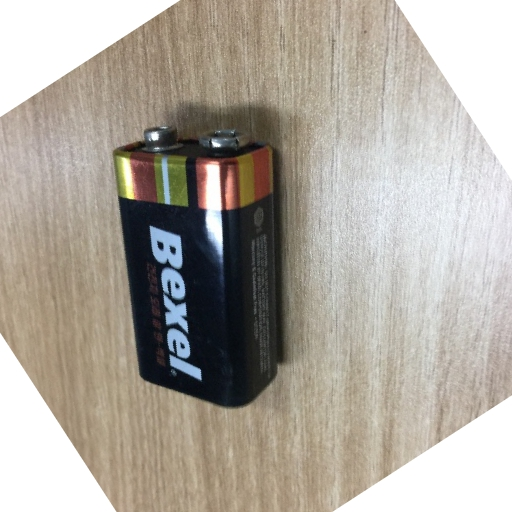Battery_3: (104, 109, 305, 420)
